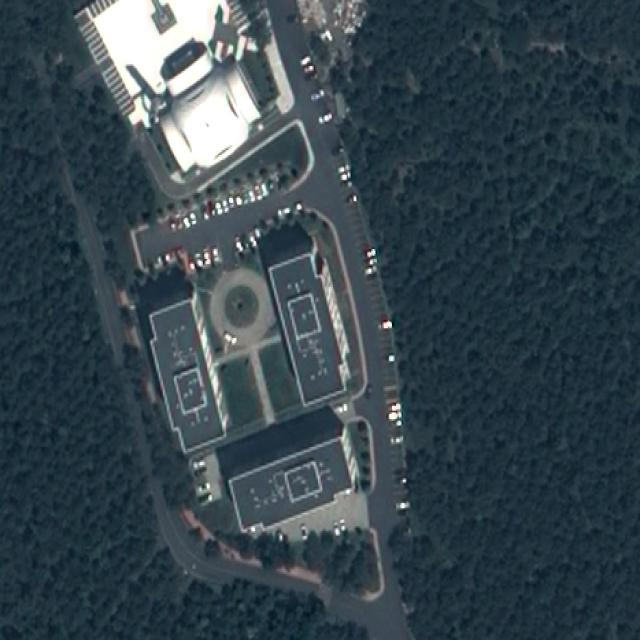Batiment: (76, 0, 294, 195), (259, 224, 348, 405), (149, 299, 225, 454), (231, 440, 349, 530)
